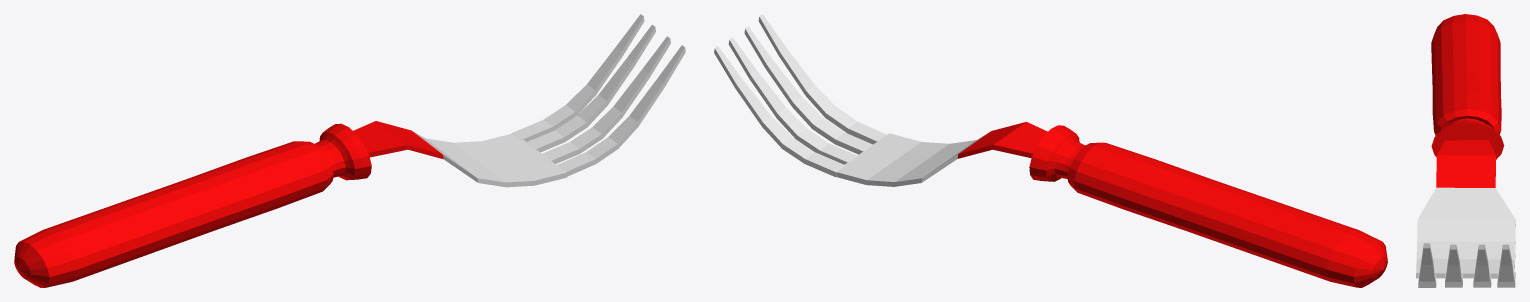
Rendered from fork1.dae.
The picture shows the model from 3 angles, left to right: view 1: azimuth 30°, elevation 25°; view 2: azimuth 150°, elevation 25°; view 3: azimuth 270°, elevation 25°; orthographic projection. The views are drawn at different scales.
Visible parts, largest first — view 1: fork1; view 2: fork1; view 3: fork1.
Boxes of the visible parts, x1,y1,x2,y2 form: fork1: (14,14,685,287); fork1: (714,14,1387,287); fork1: (1416,14,1515,287).
Size of the model in its own units: 0.1868 by 0.0271 by 0.0279.
2 materials, 1 textured.
